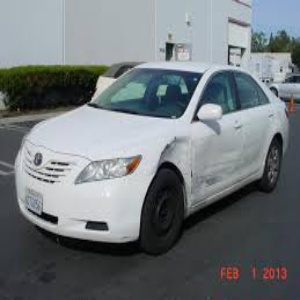bonnet: (143, 128, 187, 165)
door_scratch: (187, 133, 263, 195)
